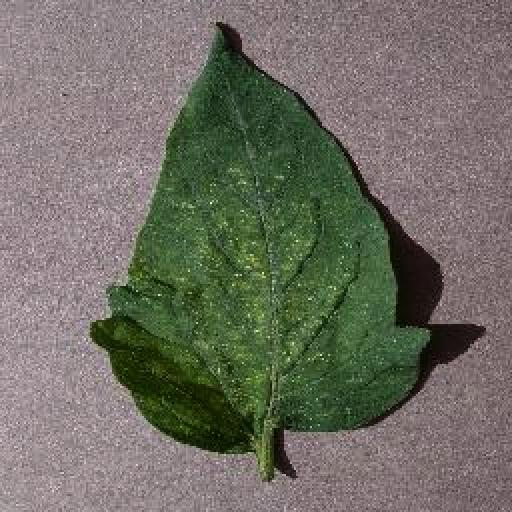disease_tomato: (90, 20, 434, 452)
